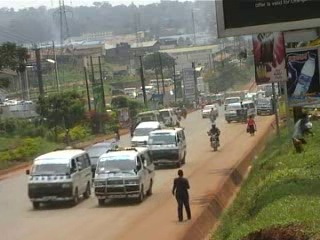Car: (83, 139, 120, 176), (129, 118, 166, 153), (199, 104, 221, 119)
Motorcycle: (205, 121, 223, 153), (206, 105, 218, 123), (179, 104, 188, 118)
